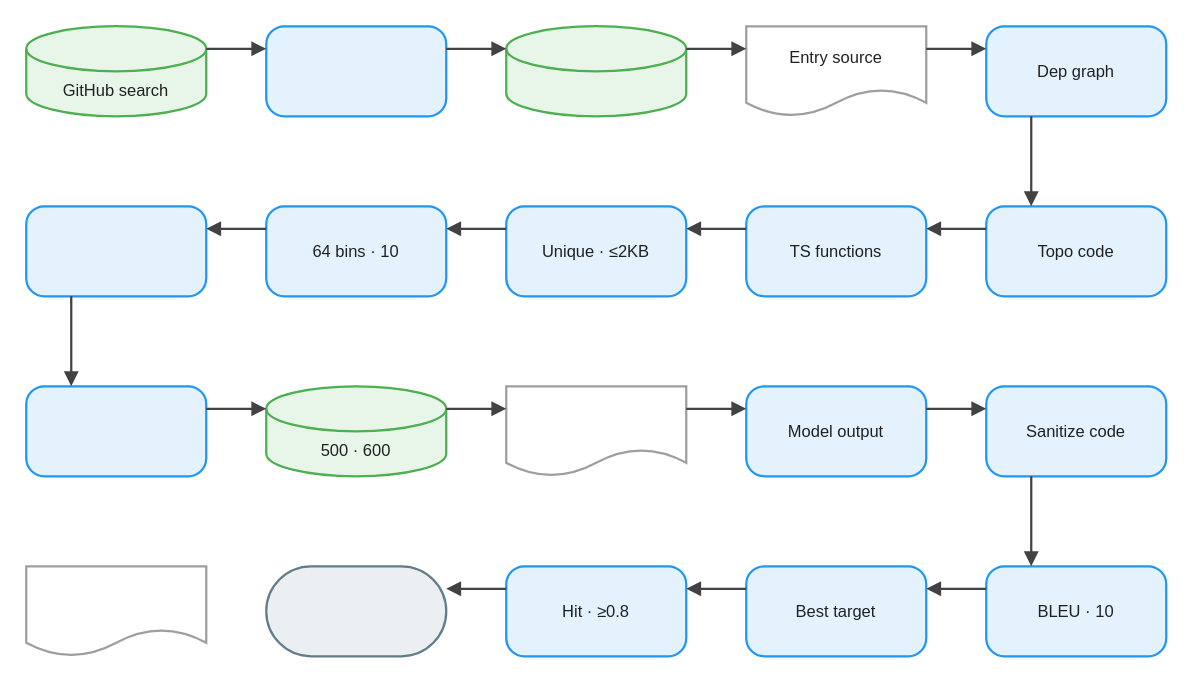
This 1194x684 diagram has some shape labels left out. The centre of each missing label's shape, as x and y in pixels:
16K SNF prompt: the point at 595,430
GPT-4 fields: the point at 115,250
Manual gate: the point at 355,70
Merge desc: the point at 115,430
Pass@1: the point at 355,610
Pinned commits: the point at 595,70
QA undisclosed: the point at 115,610
